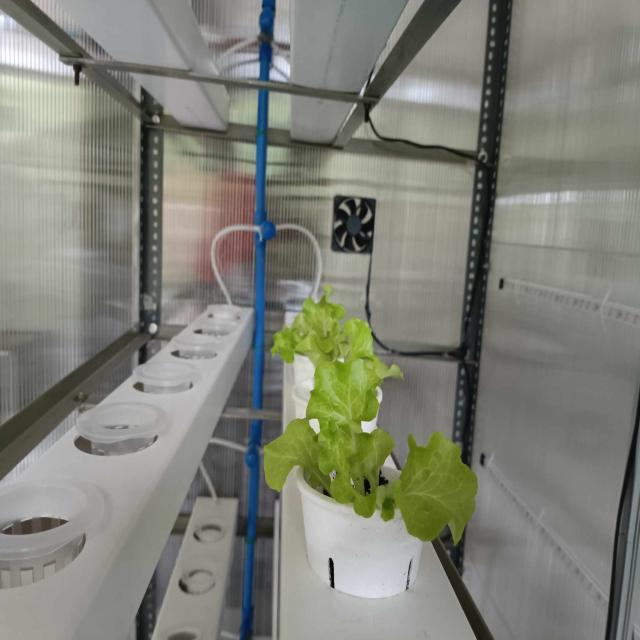Lettuce-Not-Ready-to-Harvest: (265, 358, 476, 540), (272, 290, 374, 367)
